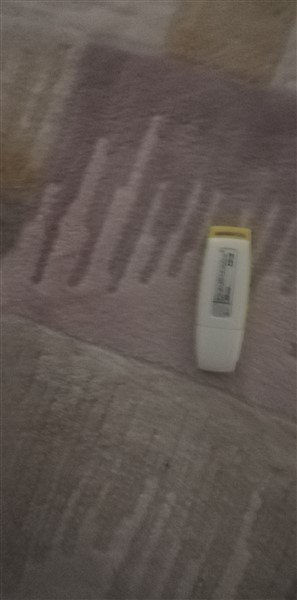flash disk: (192, 221, 255, 381)
